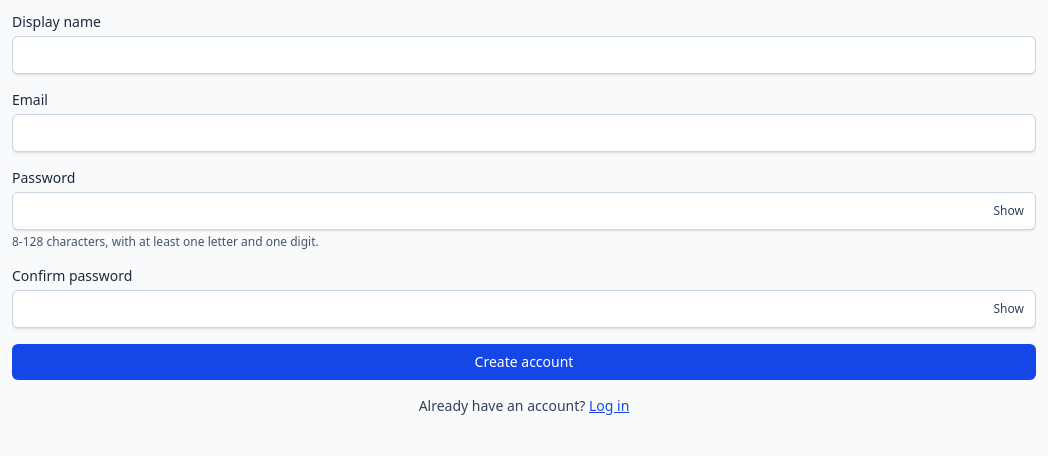
RegisterForm › shows email_taken next to the email field
This screenshot has width=1048, height=456.
Type "Ada" into the field labelled "Display name" at (524, 55), box [12,36,1036,74]
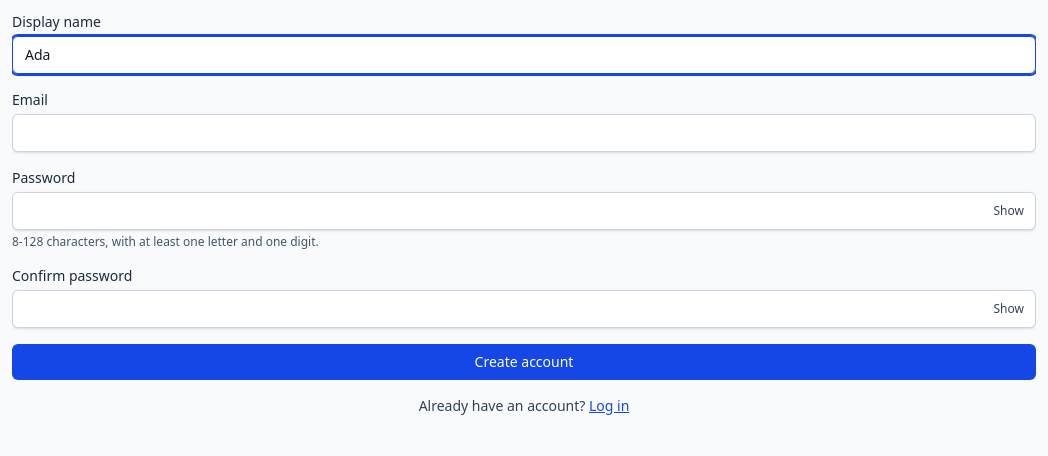
Type "ada@example.com" into the field labelled "Email" at (524, 133), box [12,114,1036,152]
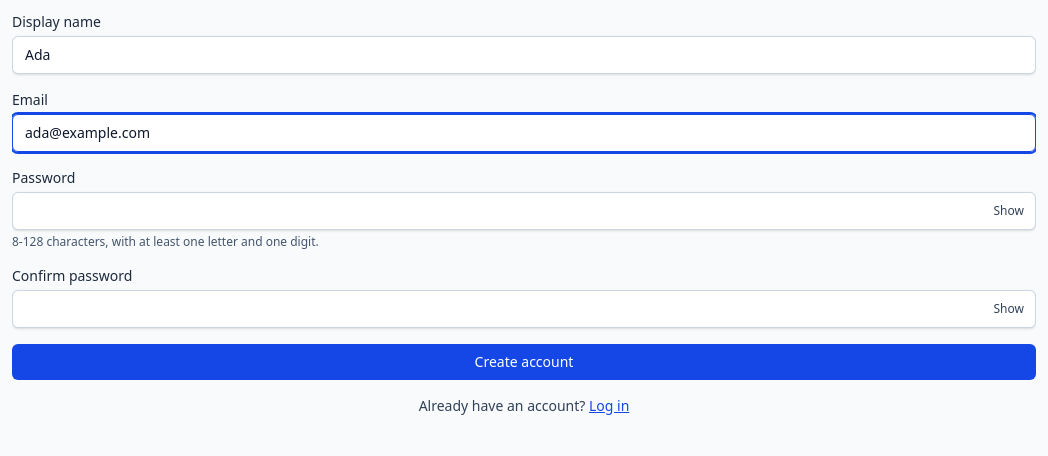
Type "correcthorse1" into the password field labelled "Password" at (524, 211), box [12,192,1036,230]
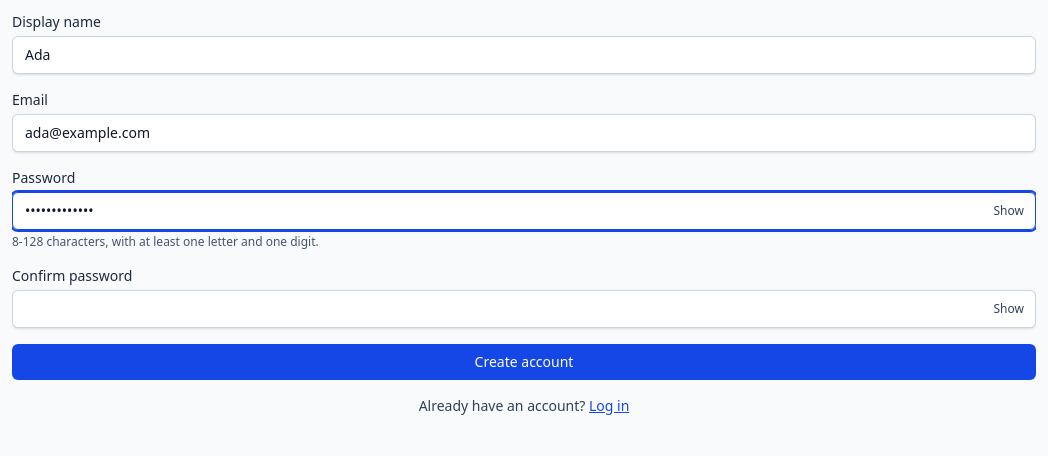
Type "correcthorse1" into the password field labelled "Confirm password" at (524, 309), box [12,290,1036,328]
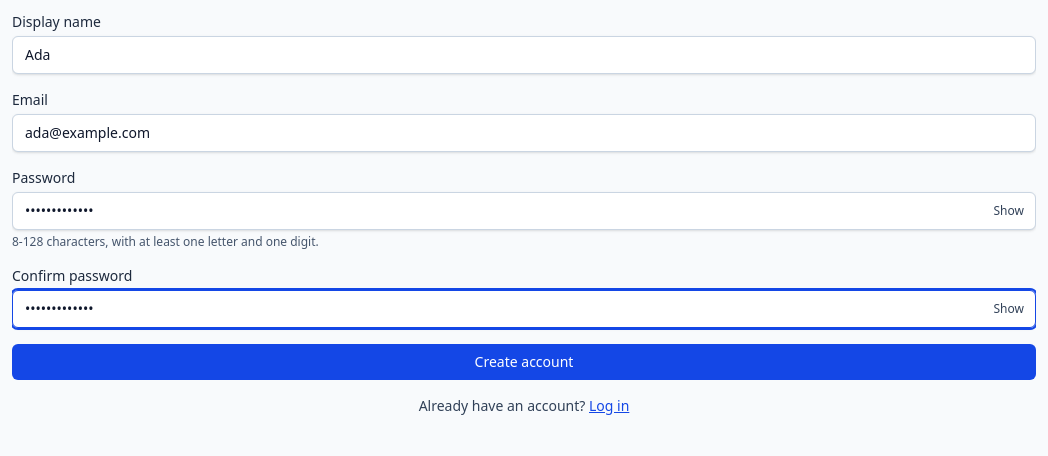
Click the button "Create account" at (524, 362), box [12,344,1036,380]
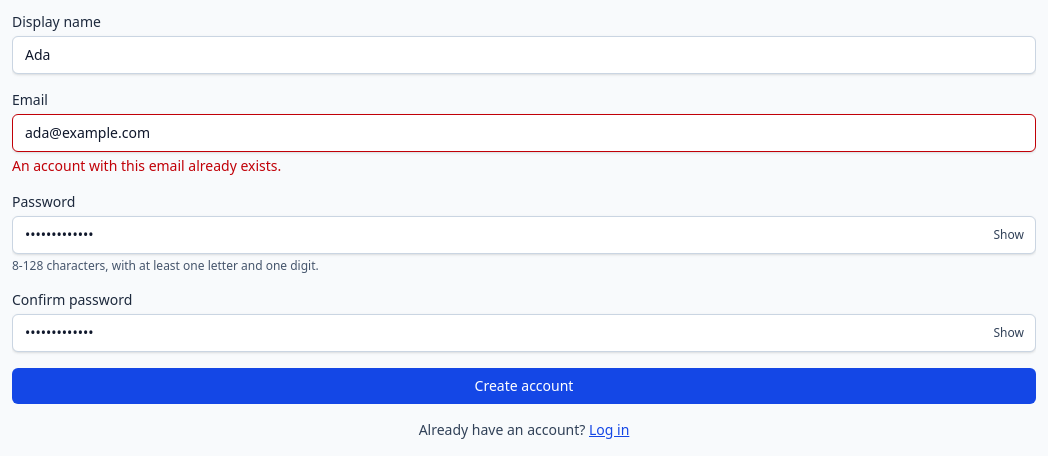
Result: the text "An account with this email already exists." is shown at [12,156,281,175]
